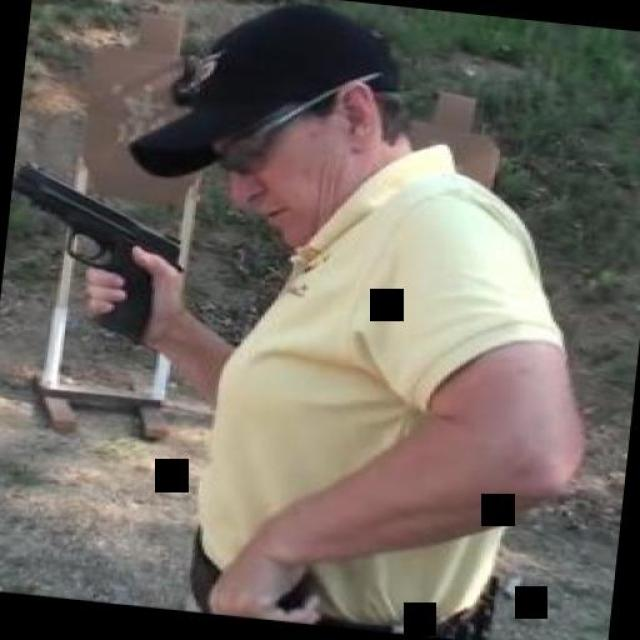gun: (1, 158, 188, 342)
